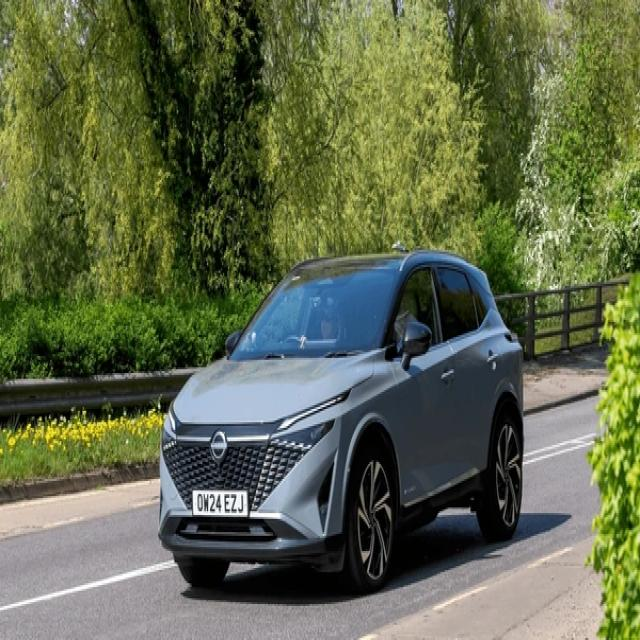nissan: (208, 432, 228, 462)
